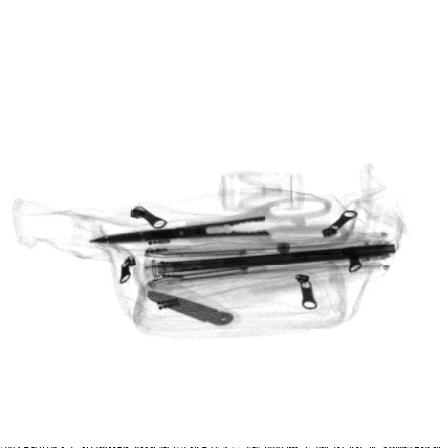Knife: (148, 290, 236, 327)
Scissors: (89, 193, 349, 247)
